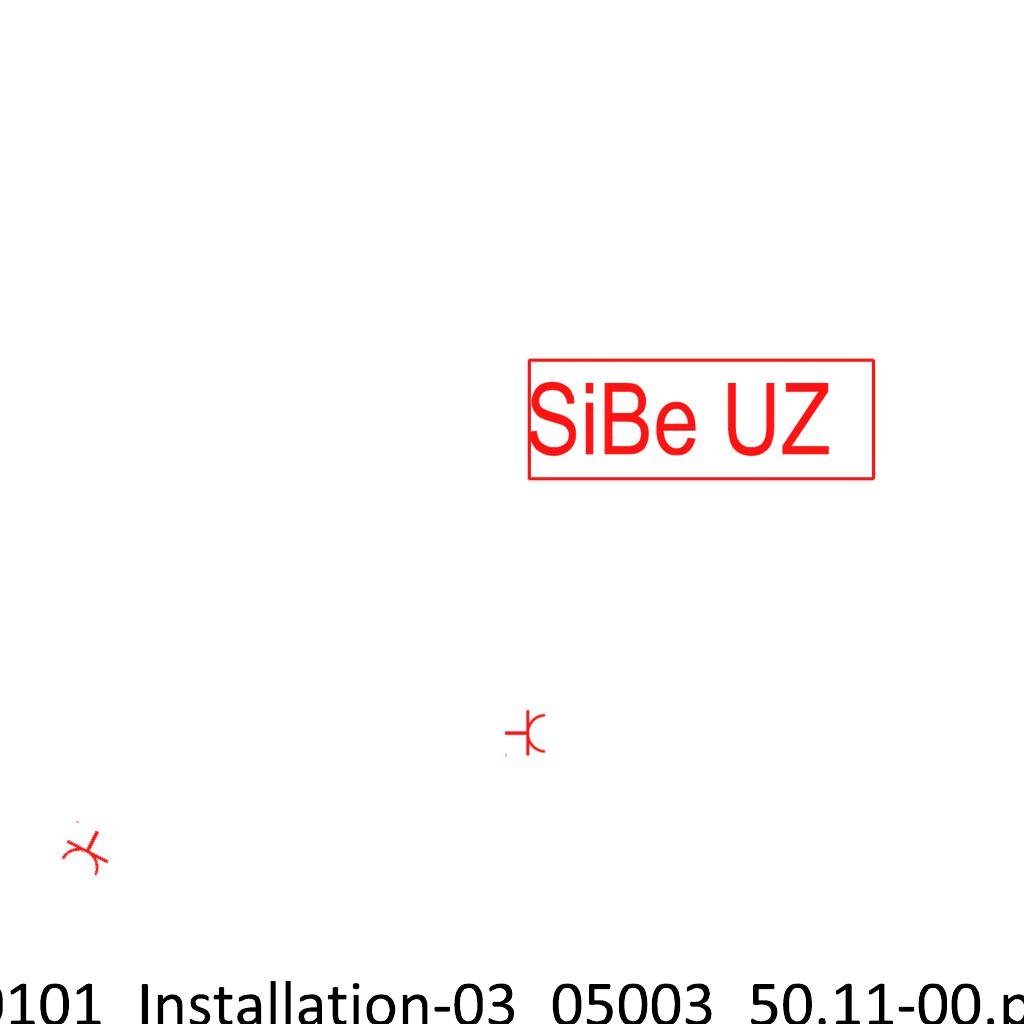Schukosteckdose_einfach: (55, 818, 120, 880), (504, 709, 547, 759)
Zentrale_Sicherheitsbeleuchtung: (524, 355, 881, 485)
